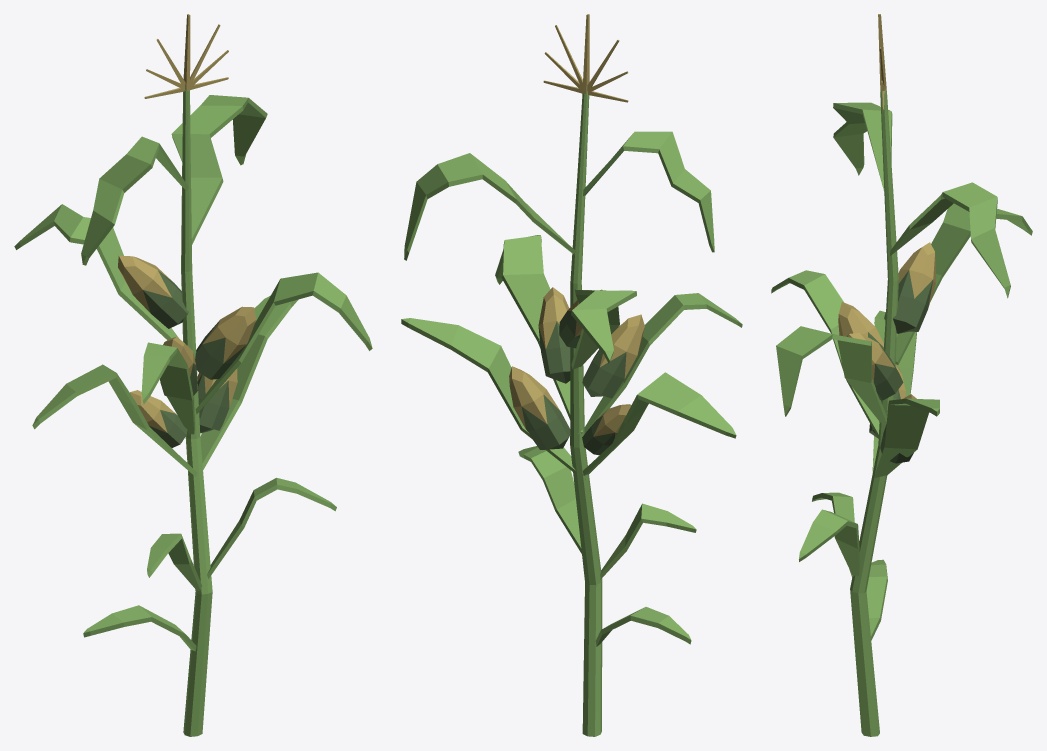
The model's file is corn_4.glb.
3 renders of one model, left to right at view 1: azimuth 30°, elevation 25°; view 2: azimuth 150°, elevation 25°; view 3: azimuth 270°, elevation 25°, orthographic.
Parts seen in each view (by area): view 1: Corn_4; view 2: Corn_4; view 3: Corn_4.
Boxes of the visible parts, left/top/right/bottom form: Corn_4: left=14, top=14, right=372, bottom=736; Corn_4: left=401, top=14, right=742, bottom=736; Corn_4: left=771, top=14, right=1032, bottom=736.
Bounding box in the file's own units: 0.8873 × 1.97 × 0.649.
